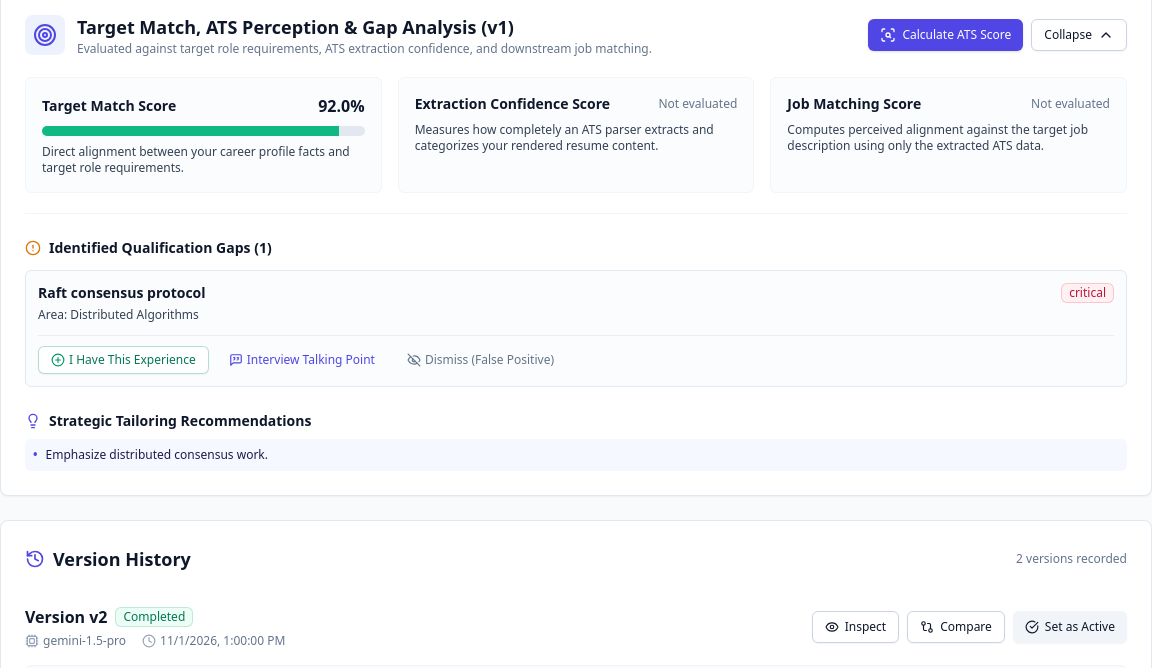
Test: BranchWorkbenchPage › submits quick-add fact to main profile via POST /facts
(page scrolled)
expect the text "Raft consensus protocol" is shown: met, box [38, 283, 206, 303]
Click the button with aria-label "i have this experience: raft consensus protocol": {"x": 123, "y": 360} [38, 346, 209, 374]
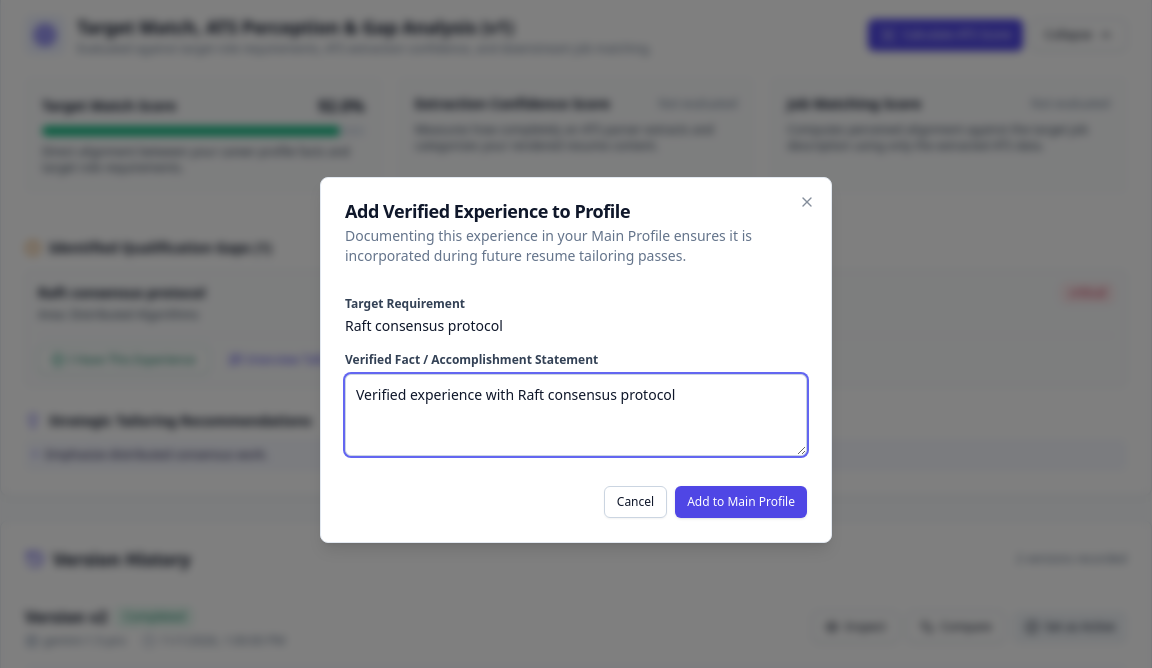
expect the dialog is shown: met, box [320, 177, 832, 543]
Replace the text in the text box labelled "Verified Fact / Accomplishment Statement" with "Operated high-volume Raft clusters with 99.99% availability.": {"x": 576, "y": 415} [345, 374, 807, 456]
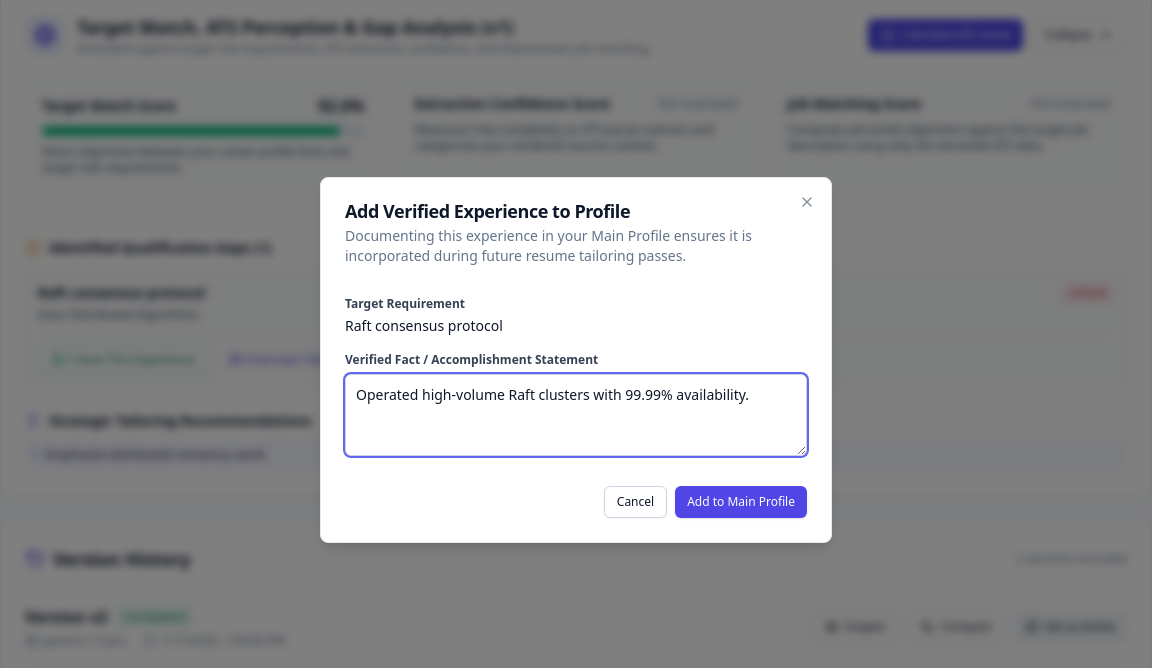
Click the button "Add to Main Profile": {"x": 741, "y": 502} [675, 486, 807, 518]
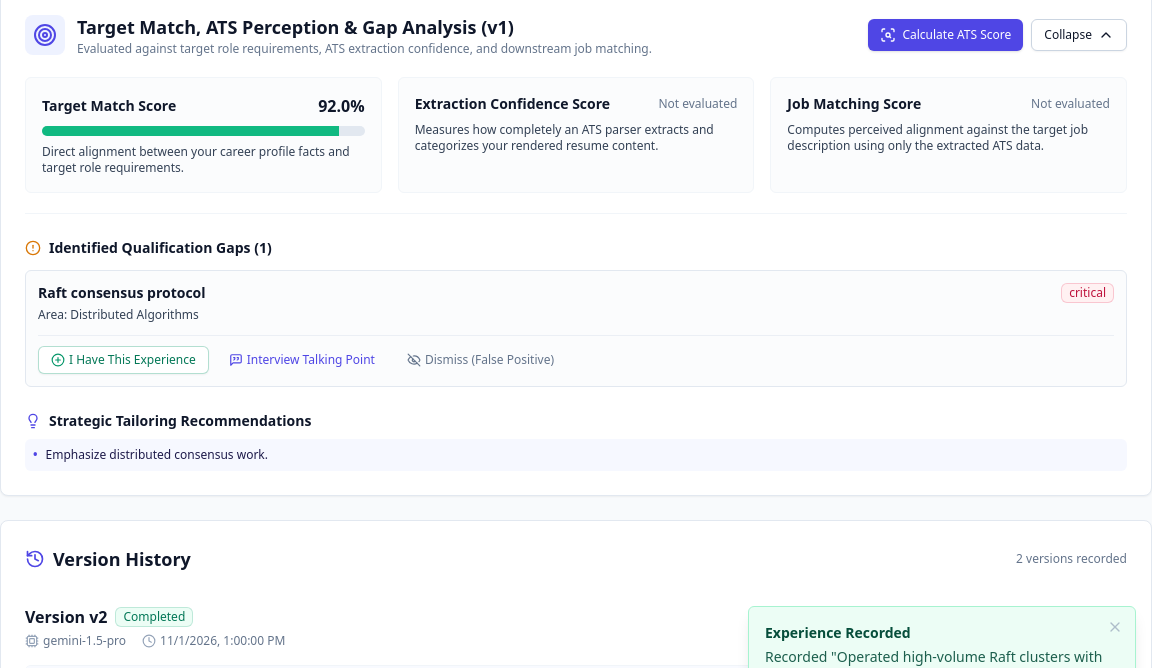
expect the text "Experience Recorded" is shown: met, box [765, 623, 911, 642]
